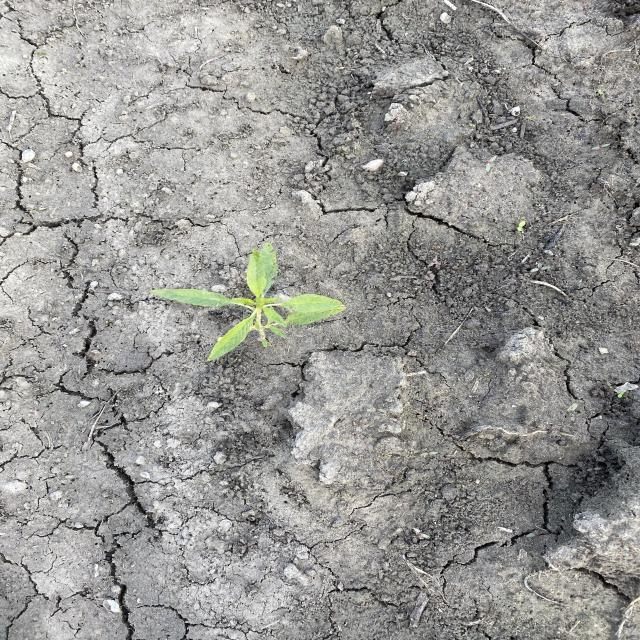Waterhemp: (146, 242, 348, 364)
